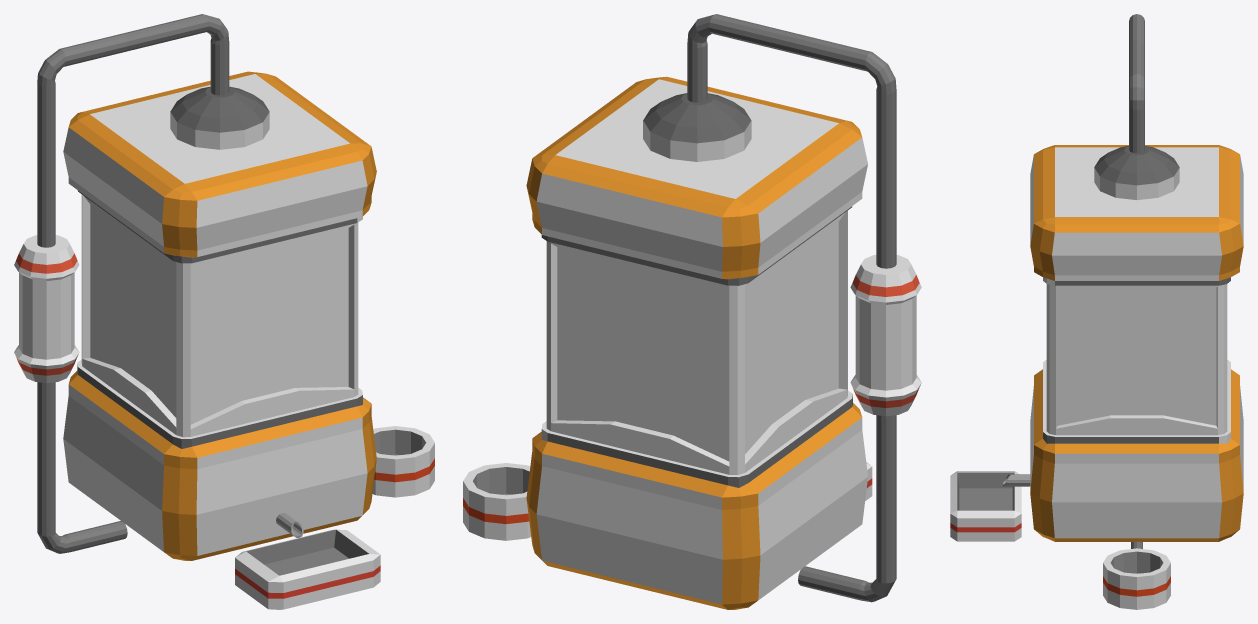
Rendered from Water Extractor.fbx.
3 renders of one model, left to right at view 1: azimuth 30°, elevation 25°; view 2: azimuth 150°, elevation 25°; view 3: azimuth 270°, elevation 25°, orthographic. The views are drawn at different scales.
Parts seen in each view (by area): view 1: Cube.007; view 2: Cube.007; view 3: Cube.007.
Part boxes in pixels (left/top/right/bottom): Cube.007: left=14, top=14, right=434, bottom=609; Cube.007: left=463, top=14, right=921, bottom=609; Cube.007: left=950, top=14, right=1243, bottom=609.
Size of the model in its own units: 702 by 836 by 504.
